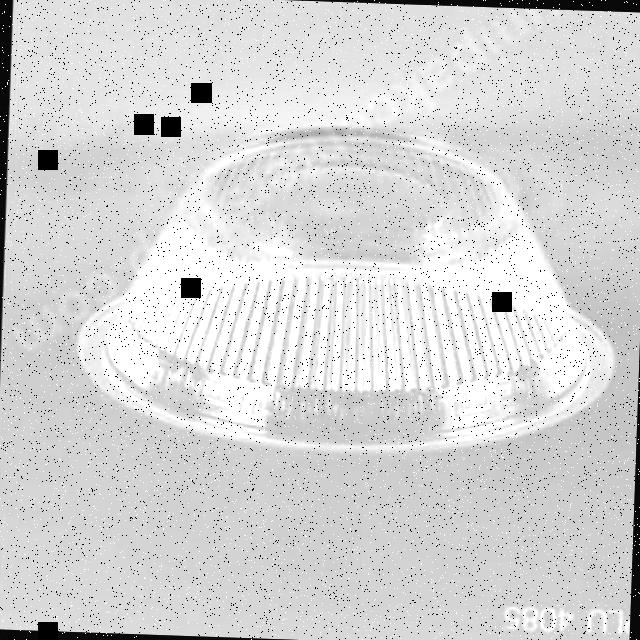plastic_box: (76, 120, 614, 458)
